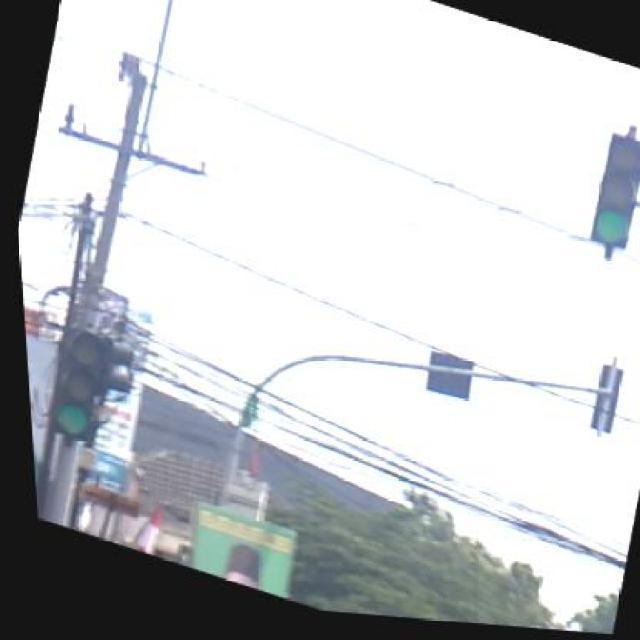green: (36, 332, 116, 460), (572, 121, 640, 262)
